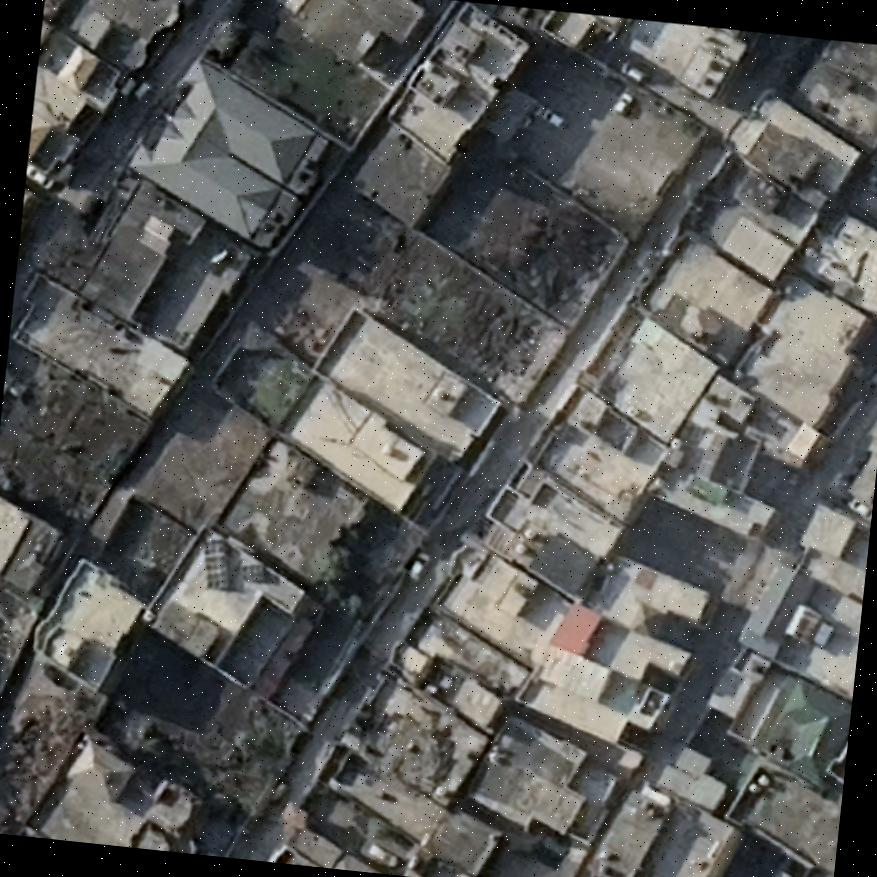Solarpanel: (202, 537, 230, 589), (239, 562, 267, 583)
